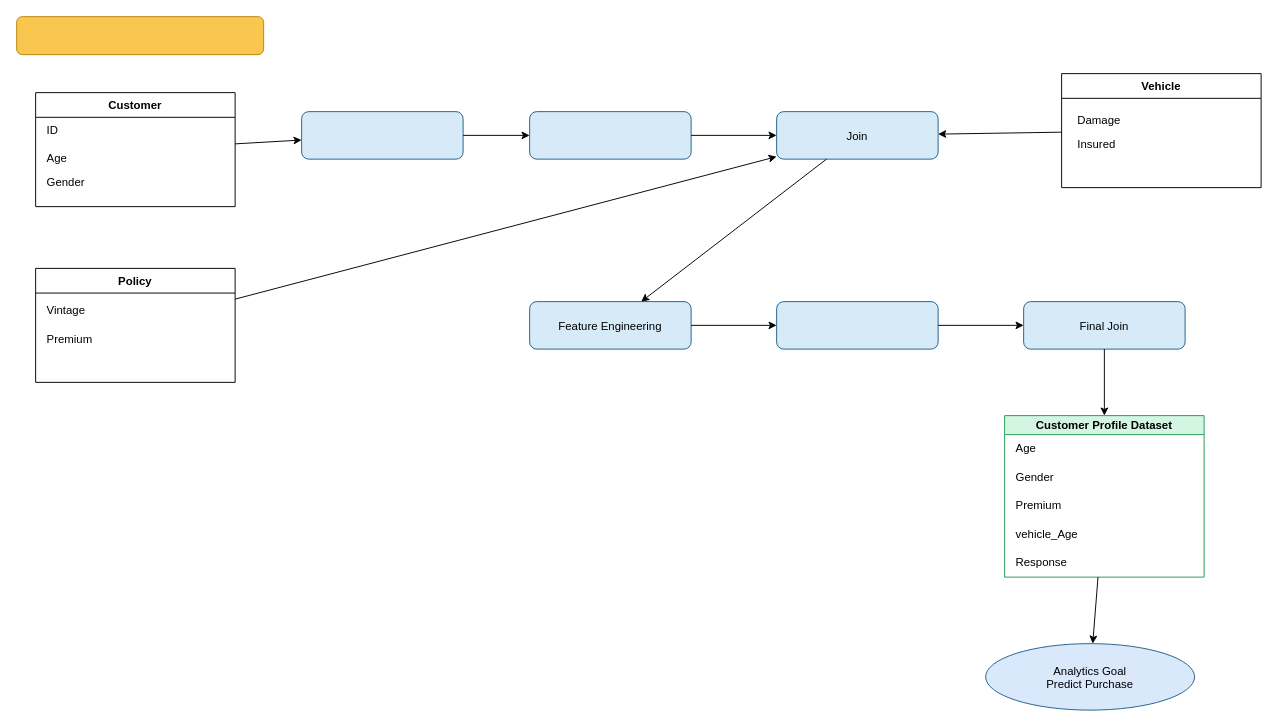
The diagram is 1278 pixels wide and 727 high, and some of its shapes have lost their labels. Here are the shapes that lost their labels. From the top down, the centre of each, then its label:
At pixel 140 35: "Data Preparation View".
At pixel 382 135: "Filter".
At pixel 610 135: "Encode".
At pixel 857 325: "Aggregation".
